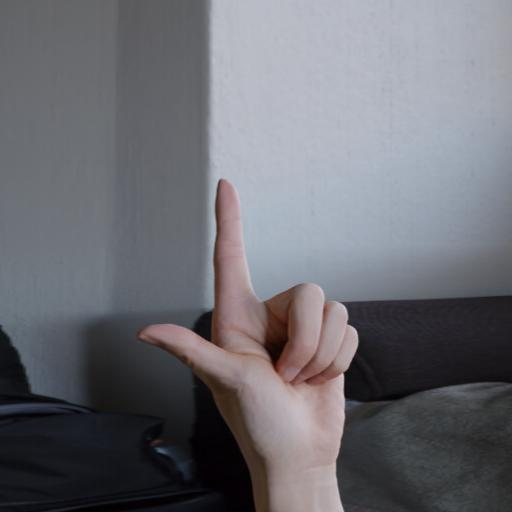L: (133, 166, 371, 512)
